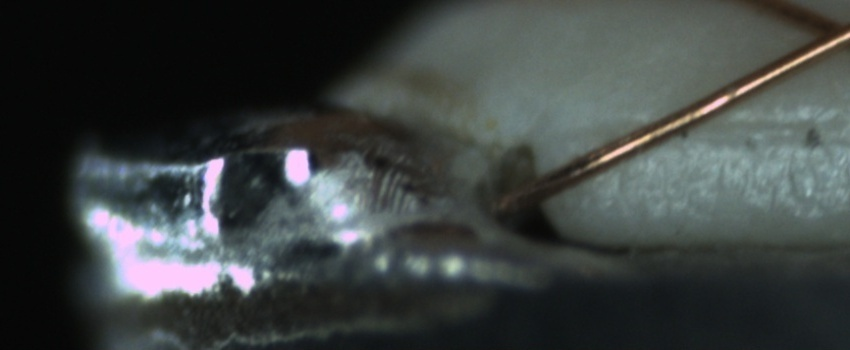CL: (780, 1, 848, 66)
DL: (617, 92, 849, 161)
